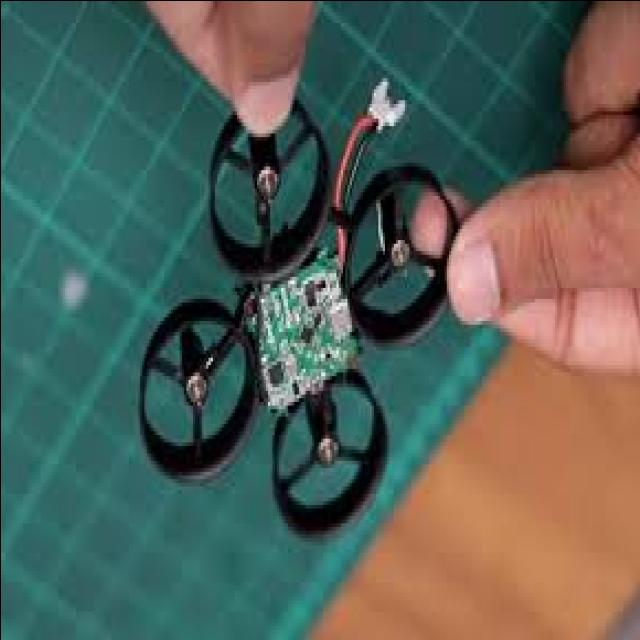drone: (130, 89, 457, 549)
